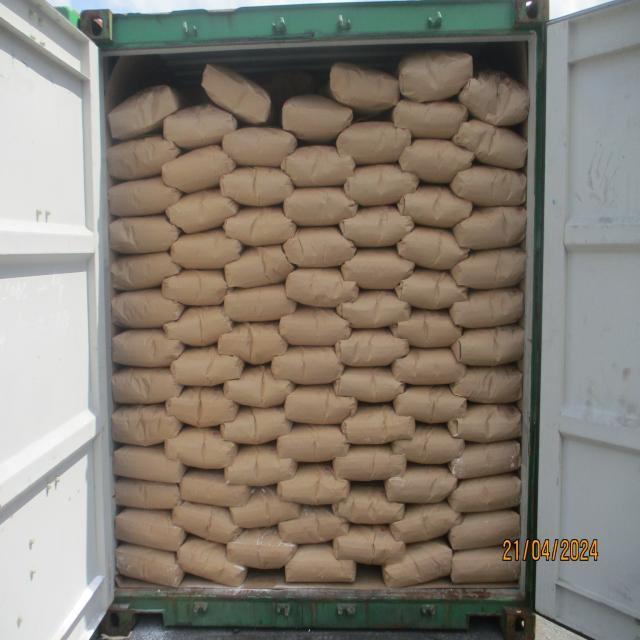gunny_bag: (108, 82, 182, 140), (200, 63, 270, 124), (396, 50, 474, 104), (459, 71, 532, 127), (451, 120, 529, 170), (176, 538, 247, 590), (284, 92, 356, 143), (329, 63, 401, 114), (162, 145, 236, 194), (398, 140, 475, 187), (382, 540, 452, 590), (106, 135, 182, 181), (164, 105, 240, 151), (397, 226, 472, 272), (450, 248, 528, 292), (165, 426, 239, 472), (398, 184, 472, 230), (112, 510, 185, 556), (451, 324, 527, 368), (345, 163, 421, 207), (334, 122, 408, 167), (167, 191, 241, 236), (450, 165, 528, 207), (338, 404, 414, 447), (454, 206, 528, 250), (282, 146, 356, 190), (279, 464, 353, 508), (224, 443, 298, 487), (216, 322, 288, 367), (223, 246, 294, 291), (270, 344, 346, 386), (282, 187, 358, 229), (448, 438, 522, 481), (283, 226, 357, 269), (340, 207, 414, 250), (342, 249, 416, 292), (111, 403, 183, 447), (448, 511, 520, 555), (391, 99, 468, 140), (113, 543, 183, 588), (284, 267, 359, 309), (170, 345, 245, 387), (391, 426, 466, 468), (166, 387, 239, 430), (224, 366, 297, 409), (389, 502, 462, 545), (172, 502, 245, 545), (227, 528, 298, 572), (218, 166, 294, 207), (170, 229, 244, 271), (450, 288, 524, 330), (448, 472, 522, 514), (284, 384, 358, 426), (332, 526, 406, 568), (447, 403, 522, 444), (449, 544, 522, 586), (395, 269, 468, 311), (392, 346, 468, 386), (334, 328, 410, 368), (223, 282, 297, 323), (111, 328, 185, 369), (110, 289, 184, 330), (108, 214, 180, 256), (232, 486, 304, 528), (334, 483, 406, 525), (276, 424, 351, 464), (393, 386, 468, 426), (107, 178, 182, 218), (279, 306, 352, 347), (276, 507, 349, 548), (335, 288, 409, 328), (218, 406, 292, 446), (450, 366, 524, 406), (224, 128, 298, 168), (112, 444, 186, 484), (223, 208, 297, 248), (282, 544, 356, 584), (164, 307, 234, 349), (385, 466, 458, 506), (177, 470, 251, 509), (390, 312, 462, 352), (108, 253, 180, 293), (331, 444, 406, 482), (110, 367, 183, 406), (160, 269, 230, 307), (334, 367, 404, 405), (114, 478, 182, 510)
